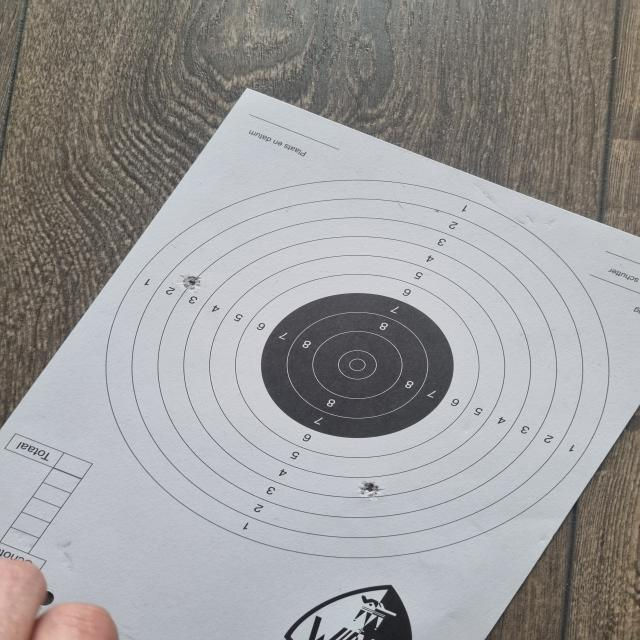4: (180, 274, 202, 290)
5: (358, 481, 384, 501)
Black Contour: (264, 292, 454, 439)
Target: (104, 178, 612, 560)
